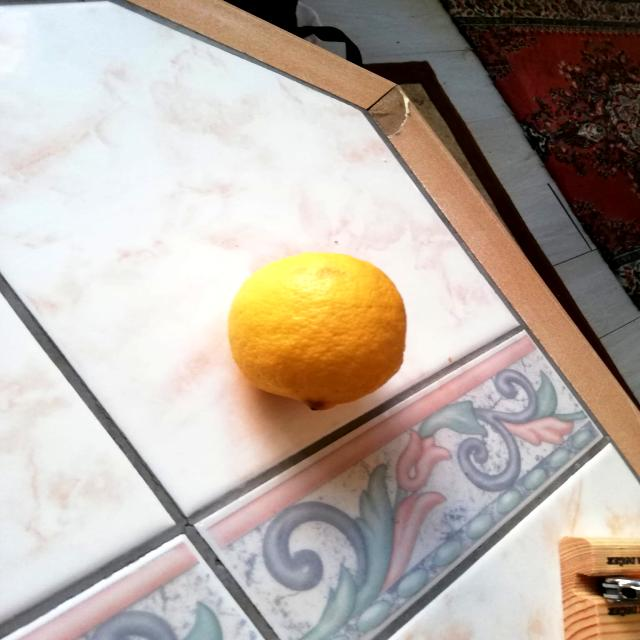lemon: (221, 240, 419, 420)
